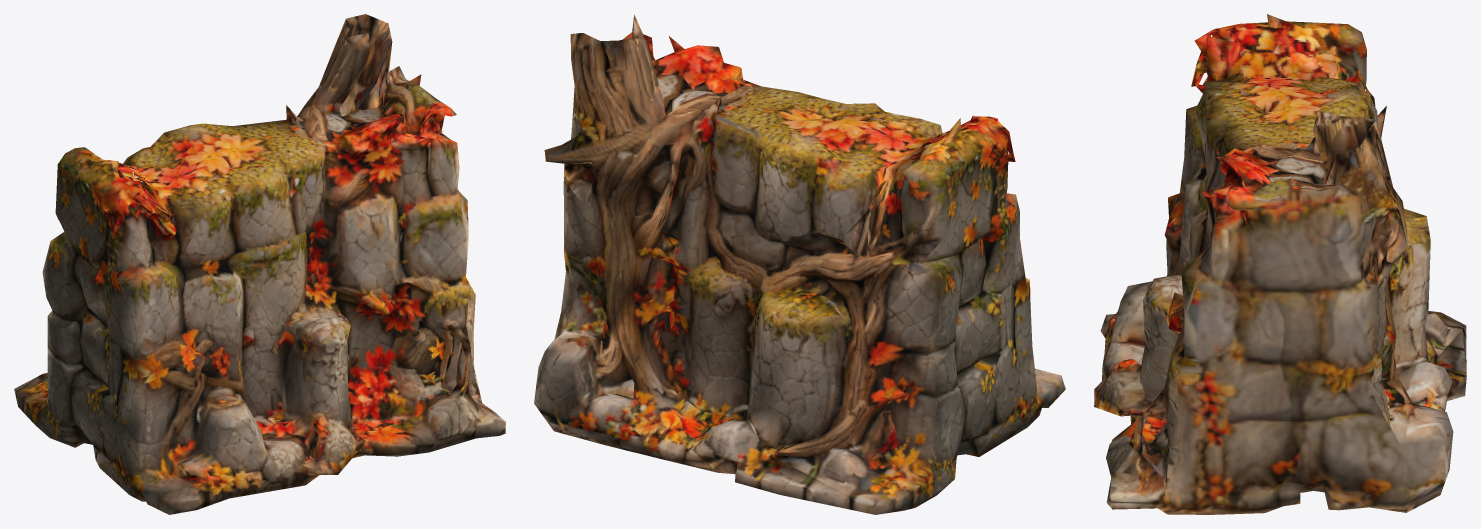
File: MapleForest_Wall.fbx
The picture shows the model from 3 angles, left to right: view 1: azimuth 30°, elevation 25°; view 2: azimuth 150°, elevation 25°; view 3: azimuth 270°, elevation 25°; orthographic projection. The views are drawn at different scales.
Visible parts, largest first — view 1: MapleForest_Wall_Mesh; view 2: MapleForest_Wall_Mesh; view 3: MapleForest_Wall_Mesh.
Boxes of the visible parts, <box> form: MapleForest_Wall_Mesh: <box>14,14,505,514</box>; MapleForest_Wall_Mesh: <box>534,14,1065,514</box>; MapleForest_Wall_Mesh: <box>1094,14,1466,514</box>.
Size of the model in its own units: 6 by 5.75 by 5.01.
Materials: 1 (1 with a texture image).
